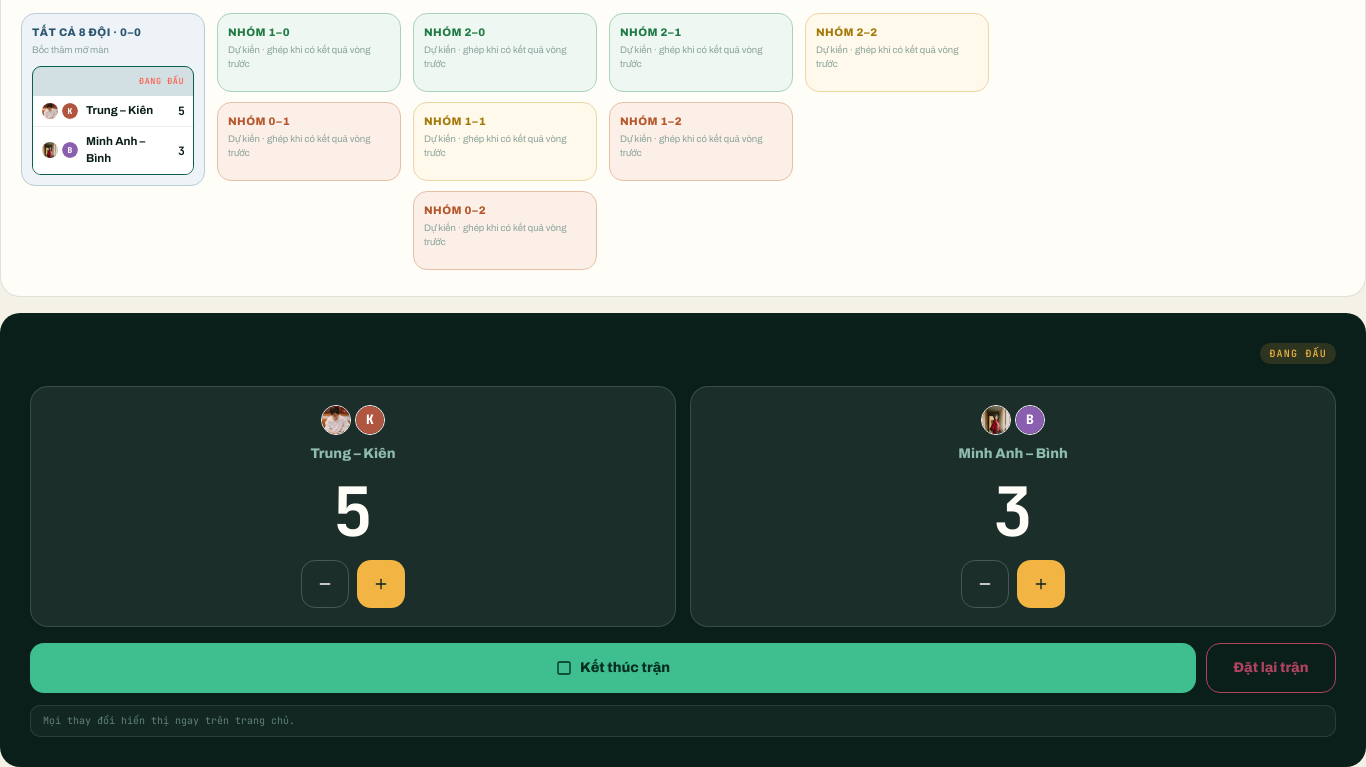
Scenario: RefereeScoringPanel (characterization: optimistic + rollback) › ends the match and shows the finished message on commit("done")
(page scrolled)
Step 1. Click the button "Kết thúc trận" → coordinates (613, 668), box [30, 642, 1196, 692]
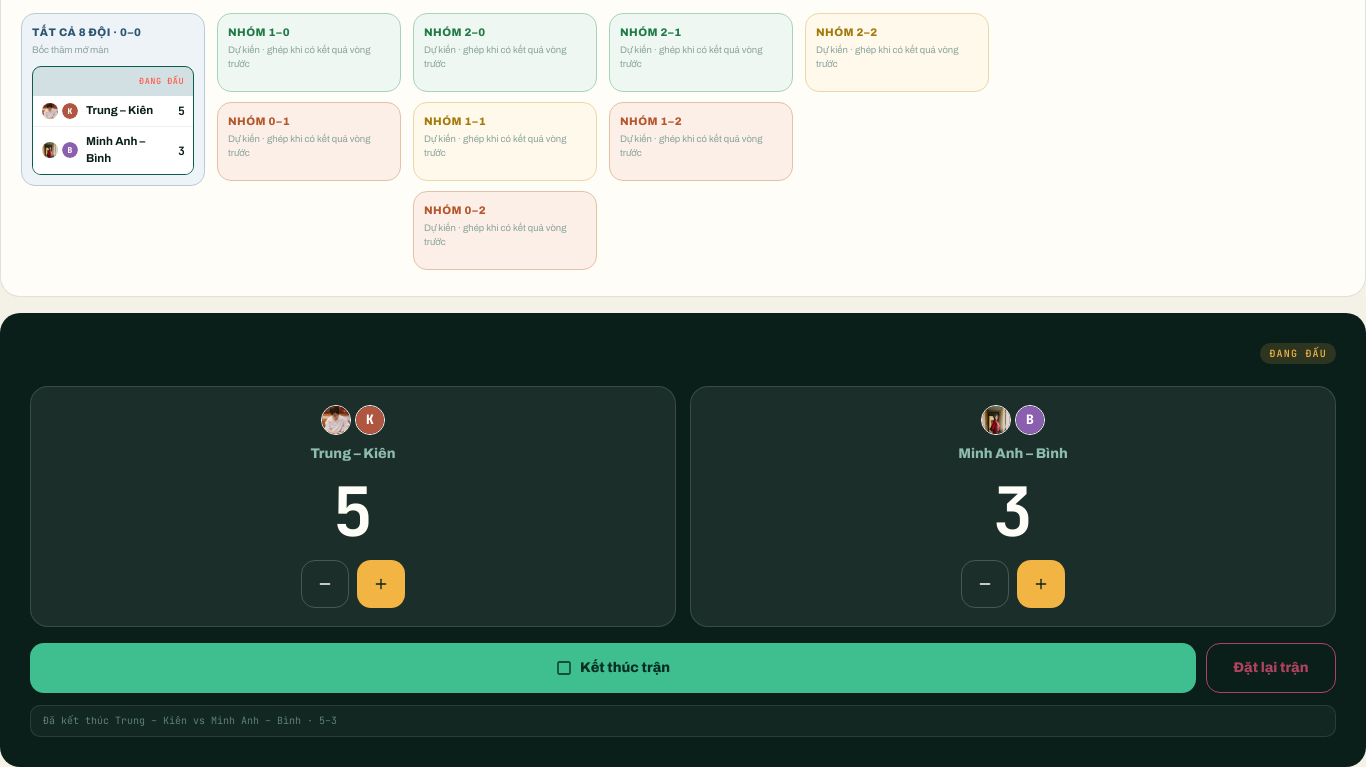
Now the text "Đã kết thúc Trung – Kiên vs Minh Anh – Bình · 5–3" is shown, box [43, 714, 337, 726]
